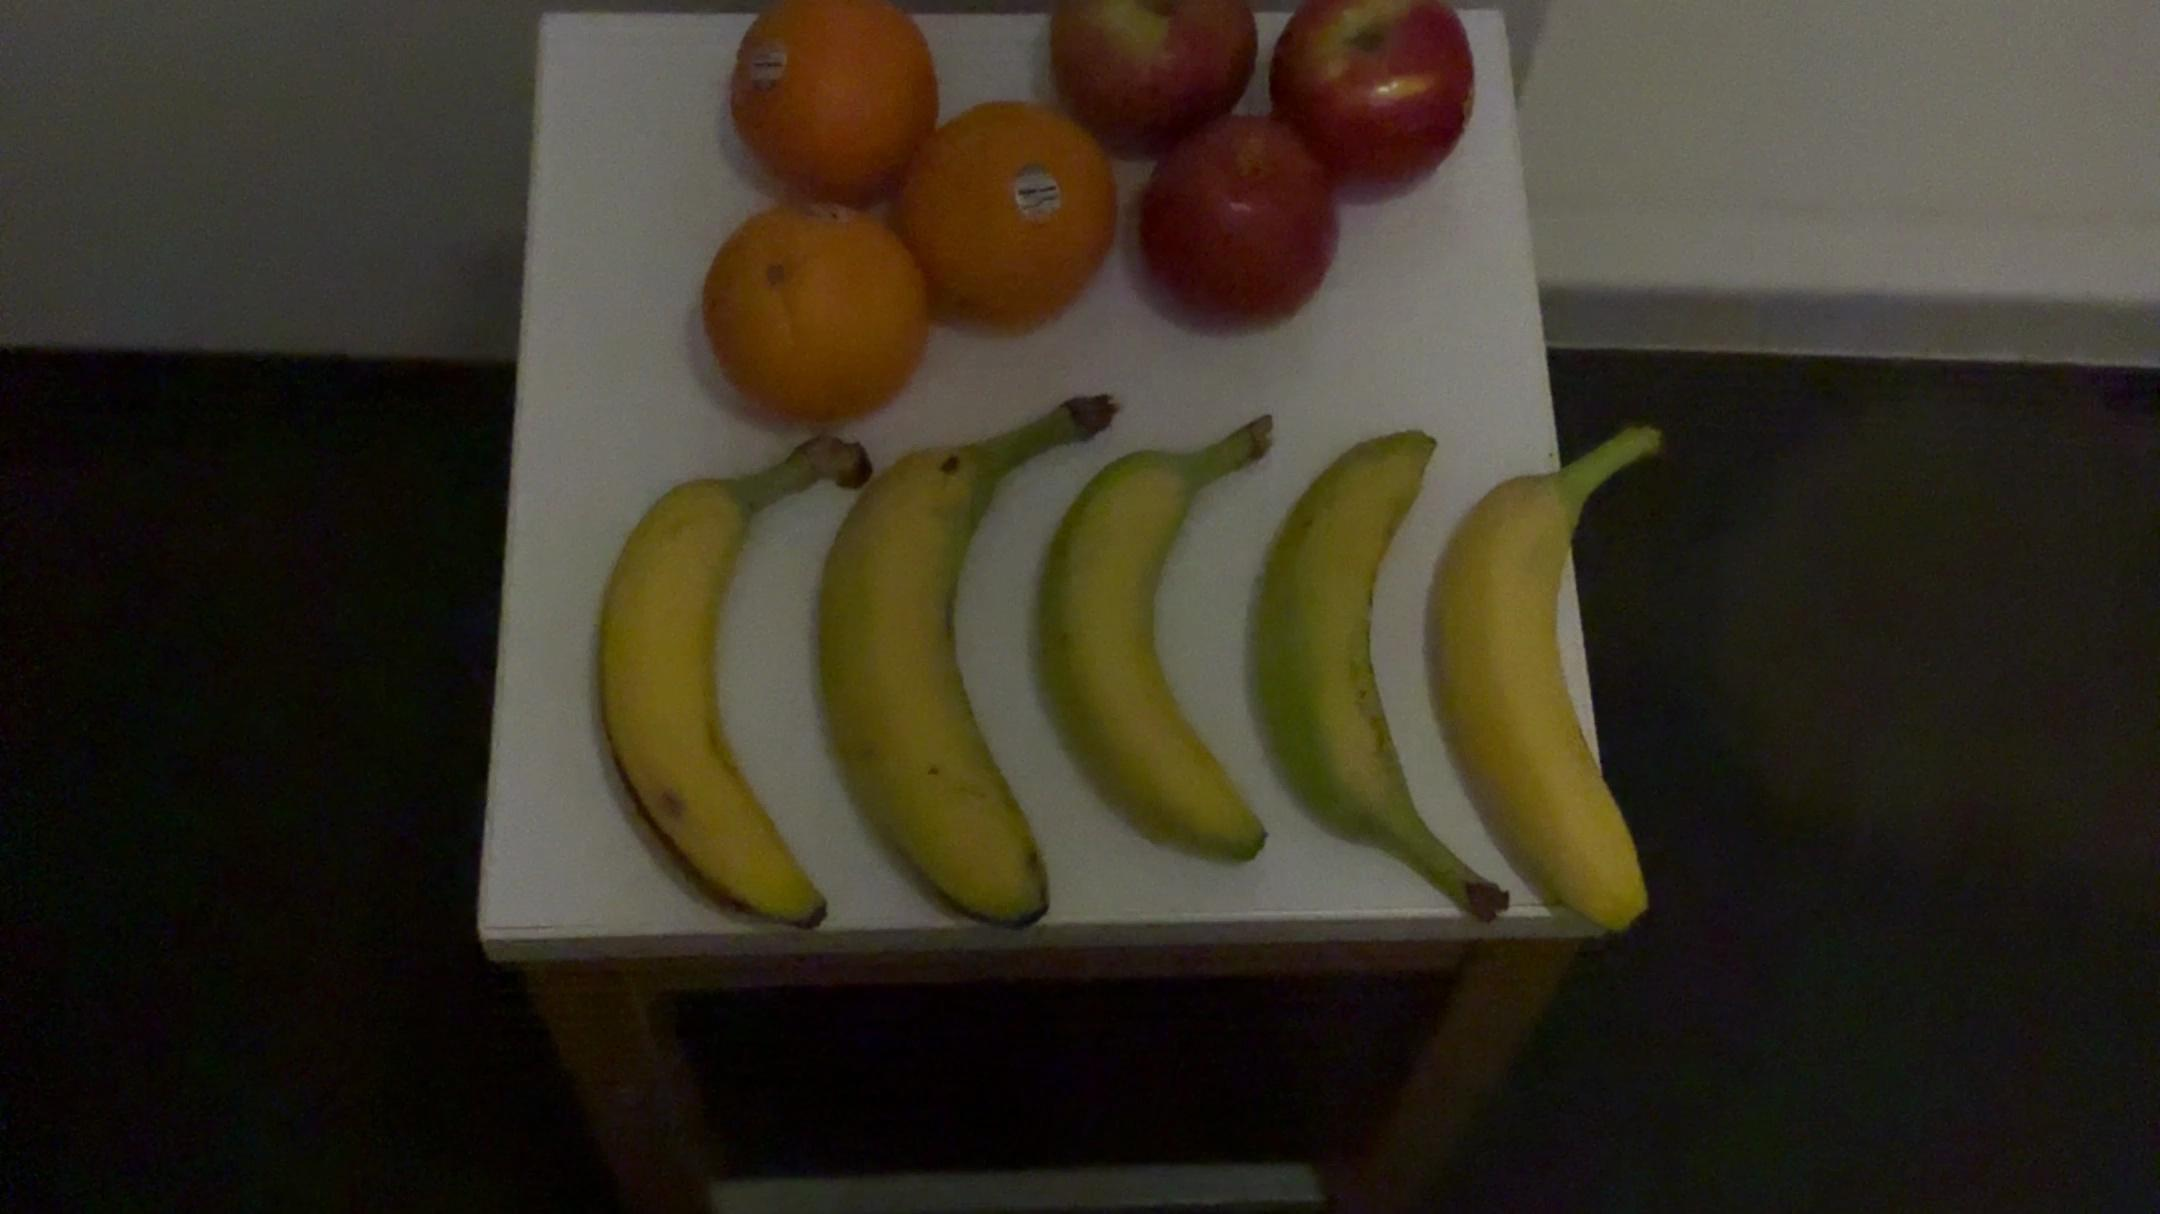apple: (1127, 125, 1353, 335), (1271, 9, 1492, 205), (1043, 9, 1267, 160)
banana: (825, 390, 1104, 945), (590, 421, 889, 934), (1248, 401, 1524, 948), (1417, 387, 1681, 957), (1025, 407, 1291, 889)
orange: (688, 193, 936, 436), (895, 102, 1107, 340), (711, 4, 955, 188)
